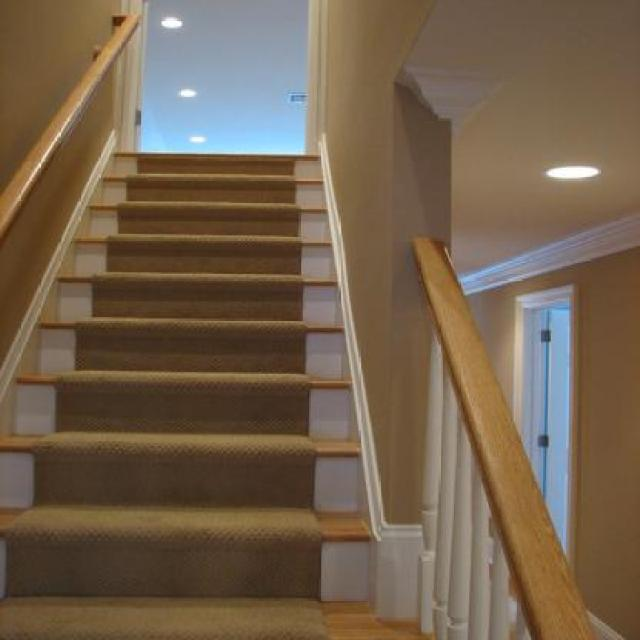stair: (0, 96, 435, 635)
